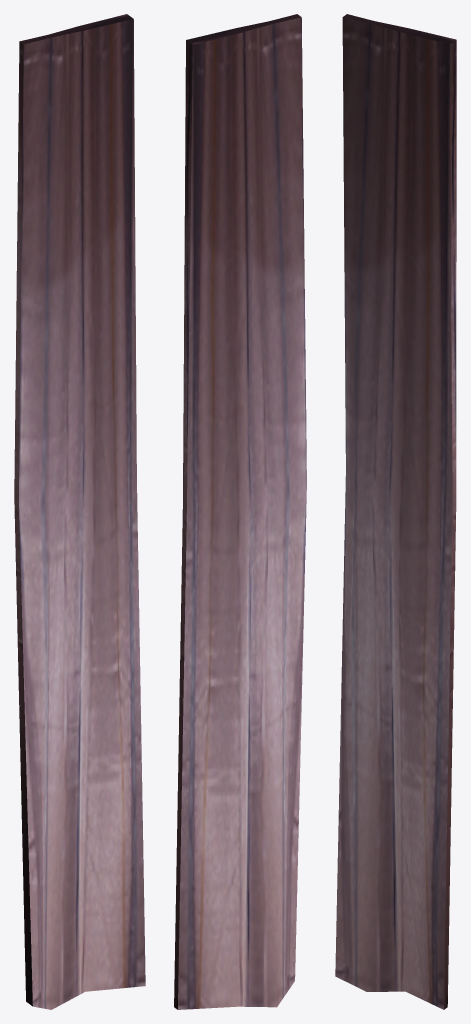
File: M_Home_Garden_Curtain_08.fbx
3 renders of one model, left to right at view 1: azimuth 30°, elevation 25°; view 2: azimuth 210°, elevation 25°; view 3: azimuth 330°, elevation 25°, orthographic.
Parts seen in each view (by area): view 1: M_Home_Garden_Curtain_08; view 2: M_Home_Garden_Curtain_08; view 3: M_Home_Garden_Curtain_08.
Part boxes in pixels (x1=…): M_Home_Garden_Curtain_08: x1=14, y1=14, x2=145, y2=1009; M_Home_Garden_Curtain_08: x1=174, y1=14, x2=306, y2=1009; M_Home_Garden_Curtain_08: x1=335, y1=14, x2=456, y2=1009.
Bounding box in the file's own units: 23.2 × 191 × 6.72.
